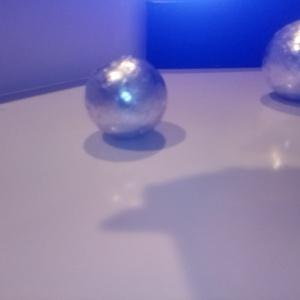alive_ball: (85, 54, 169, 139), (262, 19, 300, 101)
